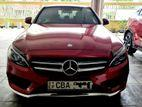car: (7, 5, 130, 99)
